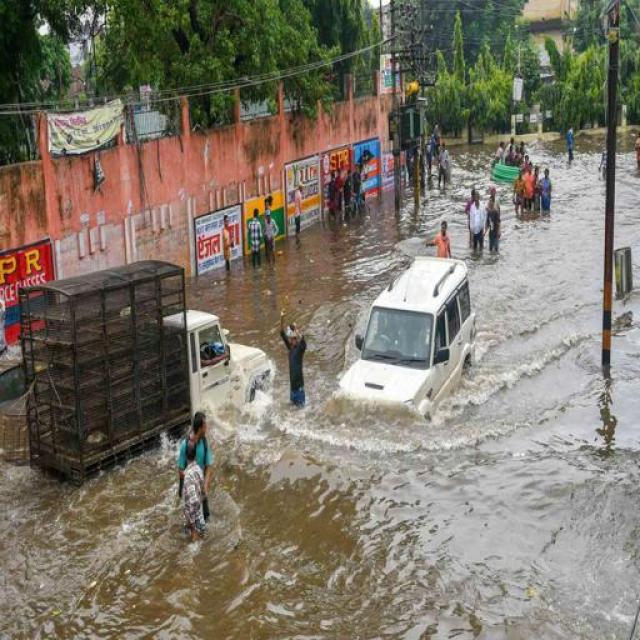puddle: (2, 512, 640, 640), (489, 240, 636, 553), (246, 425, 473, 573), (217, 261, 368, 332), (571, 155, 639, 286)
